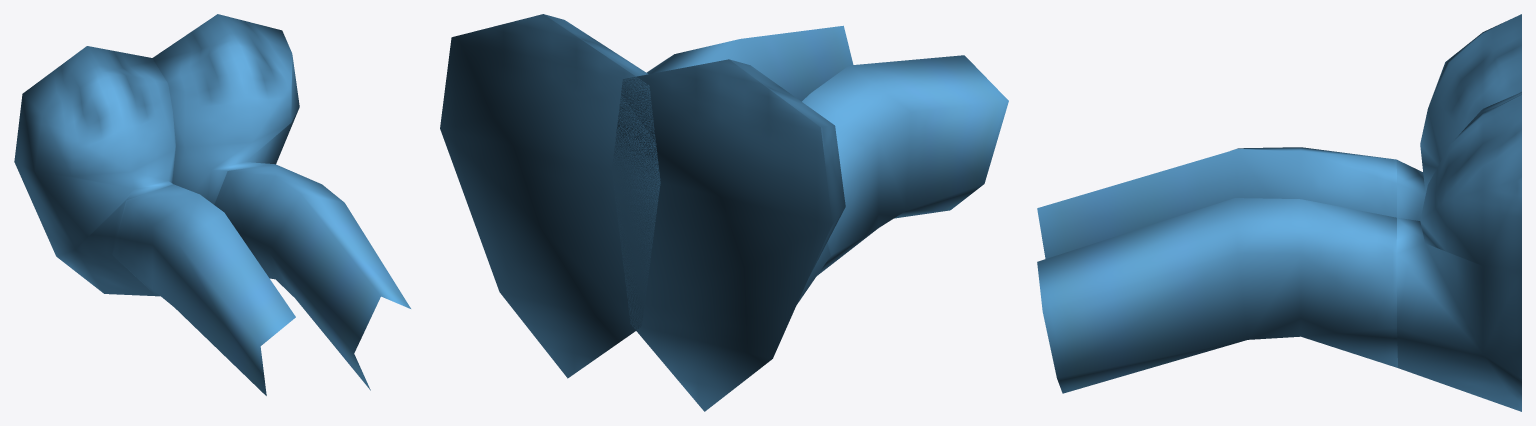
The model's file is legs_s.glb.
The picture shows the model from 3 angles, left to right: view 1: azimuth 30°, elevation 25°; view 2: azimuth 150°, elevation 25°; view 3: azimuth 270°, elevation 25°; orthographic projection. The views are drawn at different scales.
Visible parts, largest first — view 1: feet, legs; view 2: feet, legs; view 3: legs, feet.
Part boxes in pixels (x1,y1,x2,y2): feet: (14,14,299,296); legs: (112,164,410,395); feet: (440,14,845,411); legs: (646,25,1008,275); legs: (1037,147,1397,393); feet: (1396,14,1521,411).
Bounding box in the file's own units: 1.24 × 1.08 × 1.45.
Materials: 2 (2 with a texture image).
